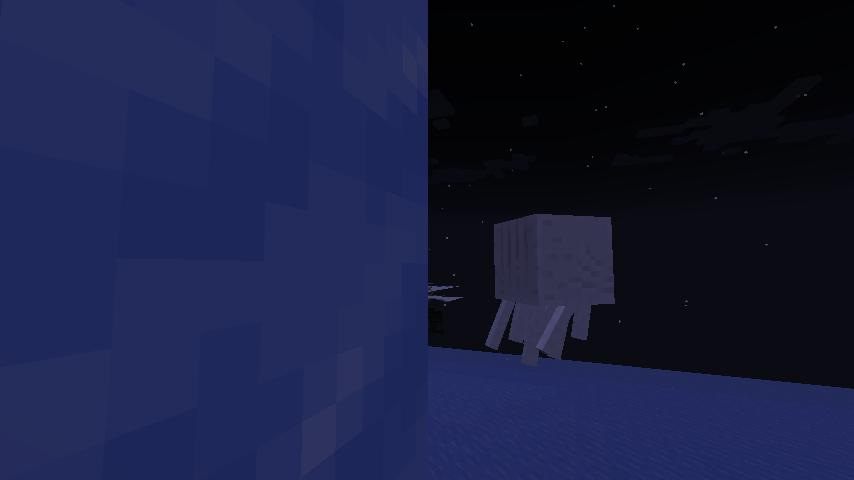ghast: (480, 208, 619, 376)
